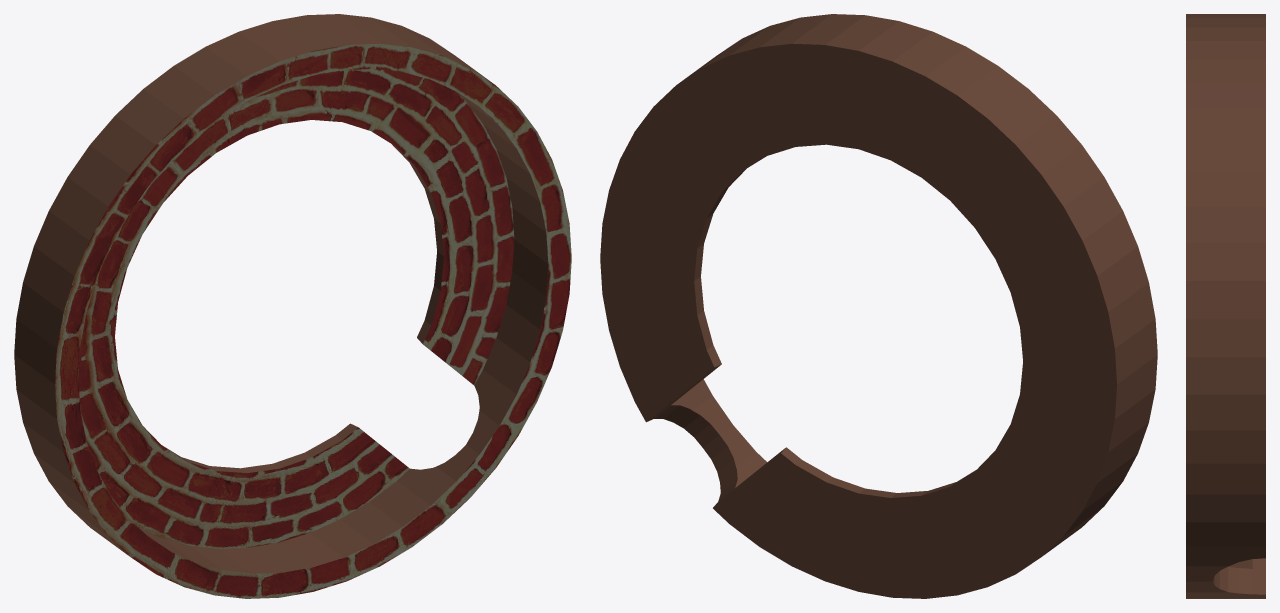
Rendered from pool_000.obj.
3 views of the same model, side by side, from view 1: azimuth 30°, elevation 25°; view 2: azimuth 150°, elevation 25°; view 3: azimuth 270°, elevation 25° (orthographic).
Size of the model in its own units: 22 by 22 by 3.
Materials: 1 (1 with a texture image).
